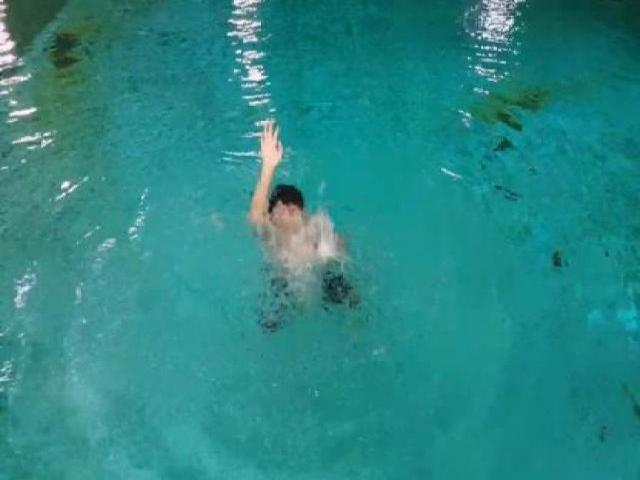drowning: (243, 119, 363, 338)
